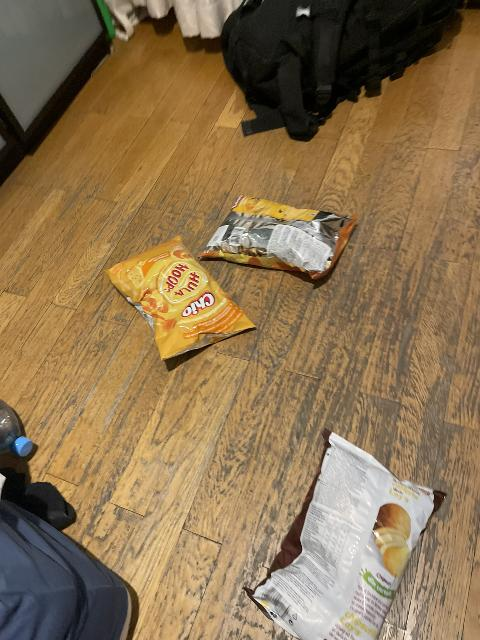Chio Cascaval 125g: (200, 194, 353, 279)
Chio Hula Hoops Cheese 70g: (104, 237, 259, 361)
Lays Beef Grilled Ribs 125g: (242, 419, 421, 635)
